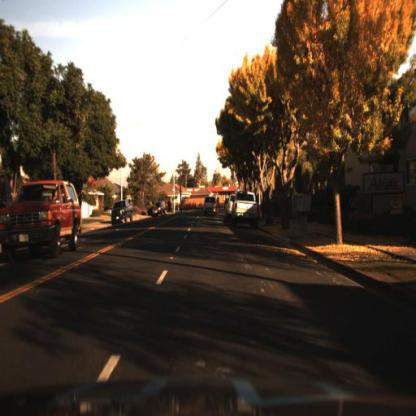car: (2, 181, 84, 261), (231, 189, 262, 229), (107, 196, 136, 225), (110, 200, 133, 230), (205, 195, 221, 218), (151, 199, 167, 219), (151, 200, 167, 219)
